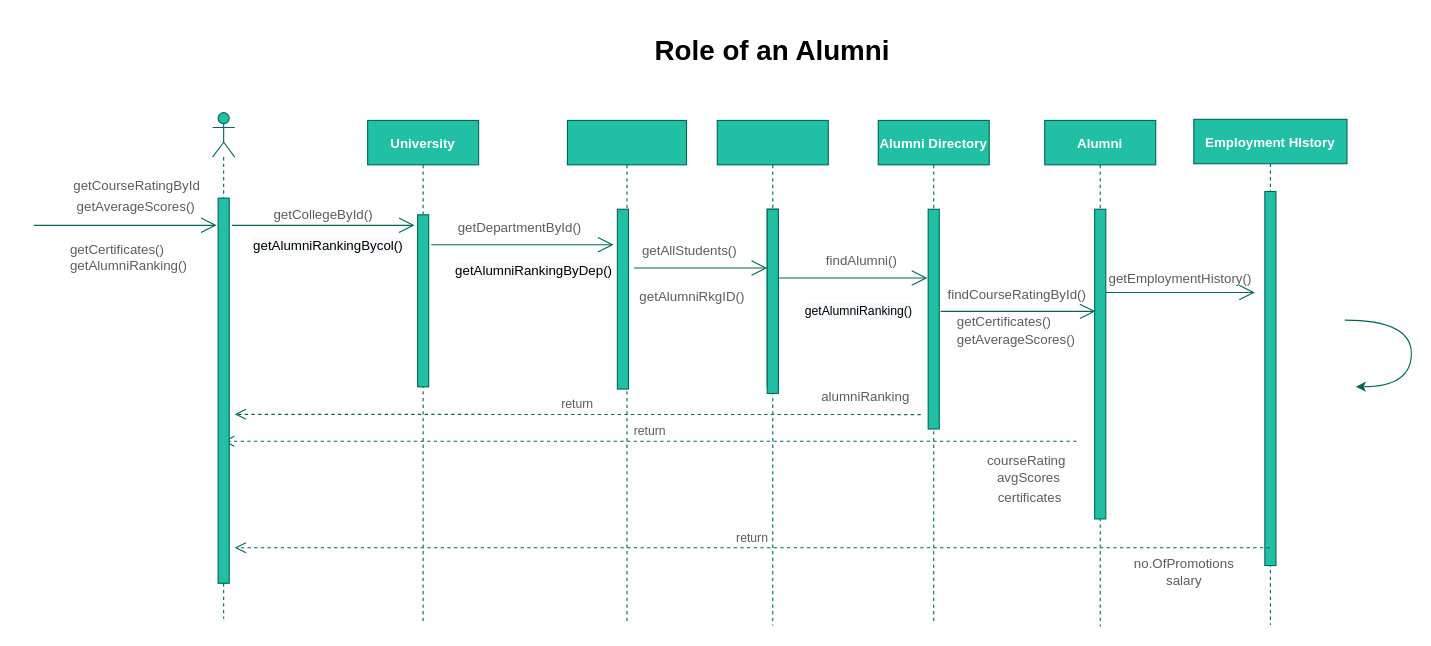
This 1431x646 diagram has some shape labels left out. The centre of each missing label's shape, as x and y in pixels:
College: point (626, 370)
Department: point (772, 372)
